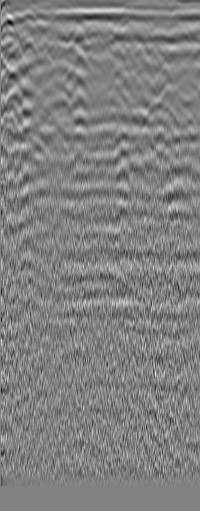오수: (18, 40, 38, 60)
우수: (167, 62, 187, 82)
